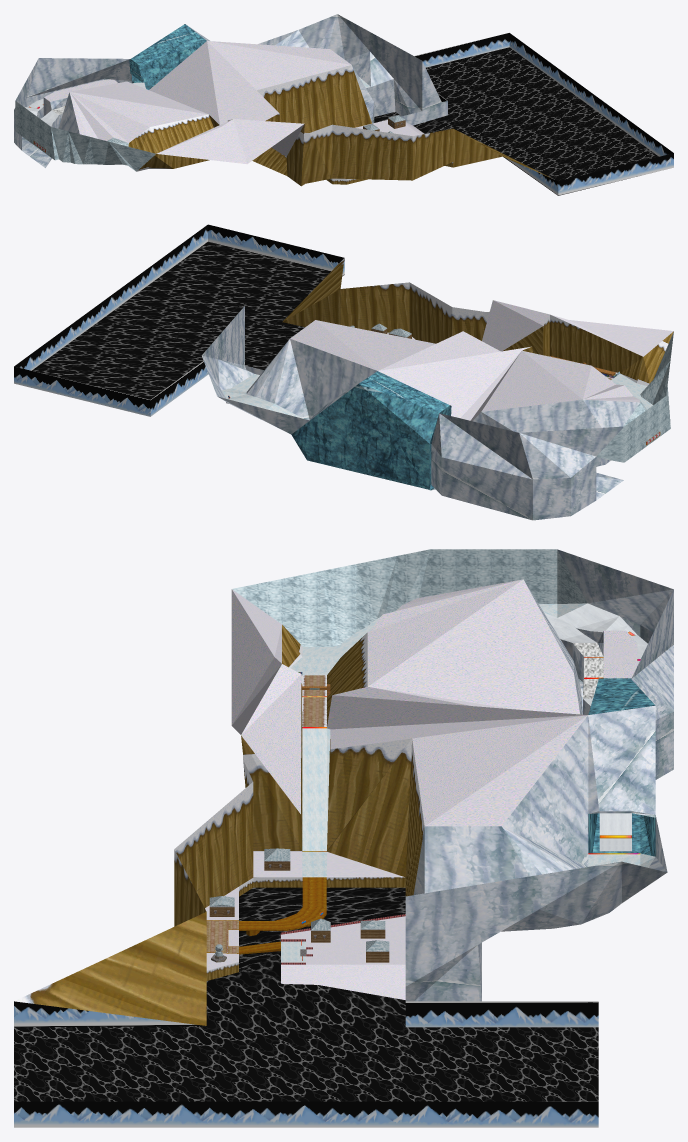
The picture shows the model from 3 angles, top to bottom: view 1: azimuth 30°, elevation 25°; view 2: azimuth 150°, elevation 25°; view 3: azimuth 270°, elevation 25°; orthographic projection. The views are drawn at different scales.
Visible parts, largest first — view 1: SnowyThrillTrail-SKP-Snow2, SnowyThrillTrail-SKP-SnowMountain, SnowyThrillTrail-SKP-Water, SnowyThrillTrail-SKP-Ice, SnowyThrillTrail-SKP-Mountain, SnowyThrillTrail-SKP-Ice2, SnowyThrillTrail-SKP-Cave, SnowyThrillTrail-SKP-Snow, SnowyThrillTrail-SKP-Snowroad2; view 2: SnowyThrillTrail-SKP-Ice, SnowyThrillTrail-SKP-Water, SnowyThrillTrail-SKP-Snow2, SnowyThrillTrail-SKP-SnowMountain, SnowyThrillTrail-SKP-Cave, SnowyThrillTrail-SKP-Mountain, SnowyThrillTrail-SKP-Ice2, SnowyThrillTrail-SKP-Snow, SnowyThrillTrail-SKP-Snowroad; view 3: SnowyThrillTrail-SKP-Water, SnowyThrillTrail-SKP-Snow2, SnowyThrillTrail-SKP-Ice, SnowyThrillTrail-SKP-SnowMountain, SnowyThrillTrail-SKP-Mountain, SnowyThrillTrail-SKP-Ice2, SnowyThrillTrail-SKP-Snow, SnowyThrillTrail-SKP-Snowroad, SnowyThrillTrail-SKP-Snowroad2, SnowyThrillTrail-SKP-Cave, SnowyThrillTrail-SKP-Wood, SnowyThrillTrail-SKP-Woodroad (+3 smaller).
Boxes of the visible parts, bbox=[...] form: SnowyThrillTrail-SKP-Snow2: bbox=[44, 41, 351, 164]; SnowyThrillTrail-SKP-SnowMountain: bbox=[128, 65, 554, 186]; SnowyThrillTrail-SKP-Water: bbox=[374, 47, 658, 181]; SnowyThrillTrail-SKP-Ice: bbox=[14, 14, 447, 167]; SnowyThrillTrail-SKP-Mountain: bbox=[414, 32, 673, 195]; SnowyThrillTrail-SKP-Ice2: bbox=[15, 101, 155, 171]; SnowyThrillTrail-SKP-Cave: bbox=[129, 24, 206, 89]; SnowyThrillTrail-SKP-Snow: bbox=[160, 119, 424, 152]; SnowyThrillTrail-SKP-Snowroad2: bbox=[25, 82, 145, 126]; SnowyThrillTrail-SKP-Ice: bbox=[201, 306, 639, 520]; SnowyThrillTrail-SKP-Water: bbox=[32, 241, 330, 399]; SnowyThrillTrail-SKP-Snow2: bbox=[290, 300, 640, 421]; SnowyThrillTrail-SKP-SnowMountain: bbox=[282, 258, 673, 385]; SnowyThrillTrail-SKP-Cave: bbox=[291, 371, 451, 490]; SnowyThrillTrail-SKP-Mountain: bbox=[14, 224, 344, 416]; SnowyThrillTrail-SKP-Ice2: bbox=[596, 332, 673, 462]; SnowyThrillTrail-SKP-Snow: bbox=[387, 315, 673, 420]; SnowyThrillTrail-SKP-Snowroad: bbox=[222, 373, 652, 461]; SnowyThrillTrail-SKP-Water: bbox=[14, 887, 598, 1101]; SnowyThrillTrail-SKP-Snow2: bbox=[231, 579, 637, 826]; SnowyThrillTrail-SKP-Ice: bbox=[405, 549, 673, 1001]; SnowyThrillTrail-SKP-SnowMountain: bbox=[14, 625, 424, 1025]; SnowyThrillTrail-SKP-Mountain: bbox=[14, 1001, 598, 1127]; SnowyThrillTrail-SKP-Ice2: bbox=[232, 549, 587, 646]; SnowyThrillTrail-SKP-Snow: bbox=[205, 589, 516, 999]; SnowyThrillTrail-SKP-Snowroad: bbox=[281, 603, 655, 962]; SnowyThrillTrail-SKP-Snowroad2: bbox=[544, 603, 647, 851]; SnowyThrillTrail-SKP-Cave: bbox=[588, 678, 655, 856]; SnowyThrillTrail-SKP-Wood: bbox=[206, 631, 640, 954]; SnowyThrillTrail-SKP-Woodroad: bbox=[206, 675, 326, 953].
Size of the model in its own units: 149012 by 25795 by 94735.
33 materials, 33 textured.
